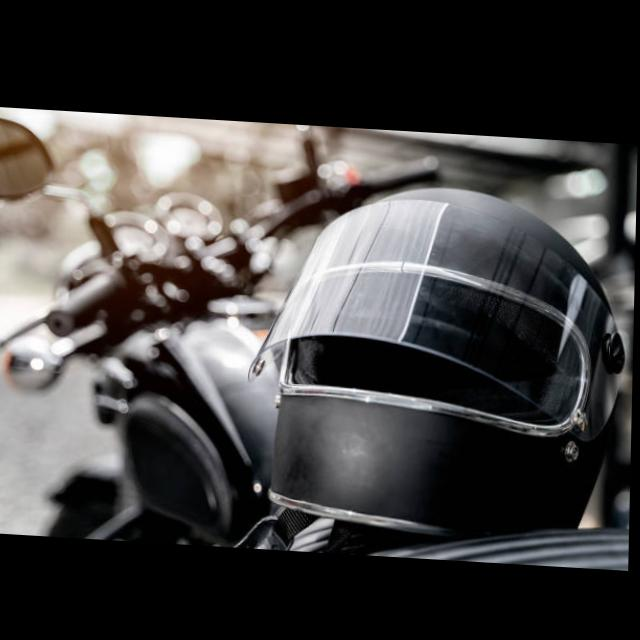motorcycle-helmets: (250, 188, 623, 539)
